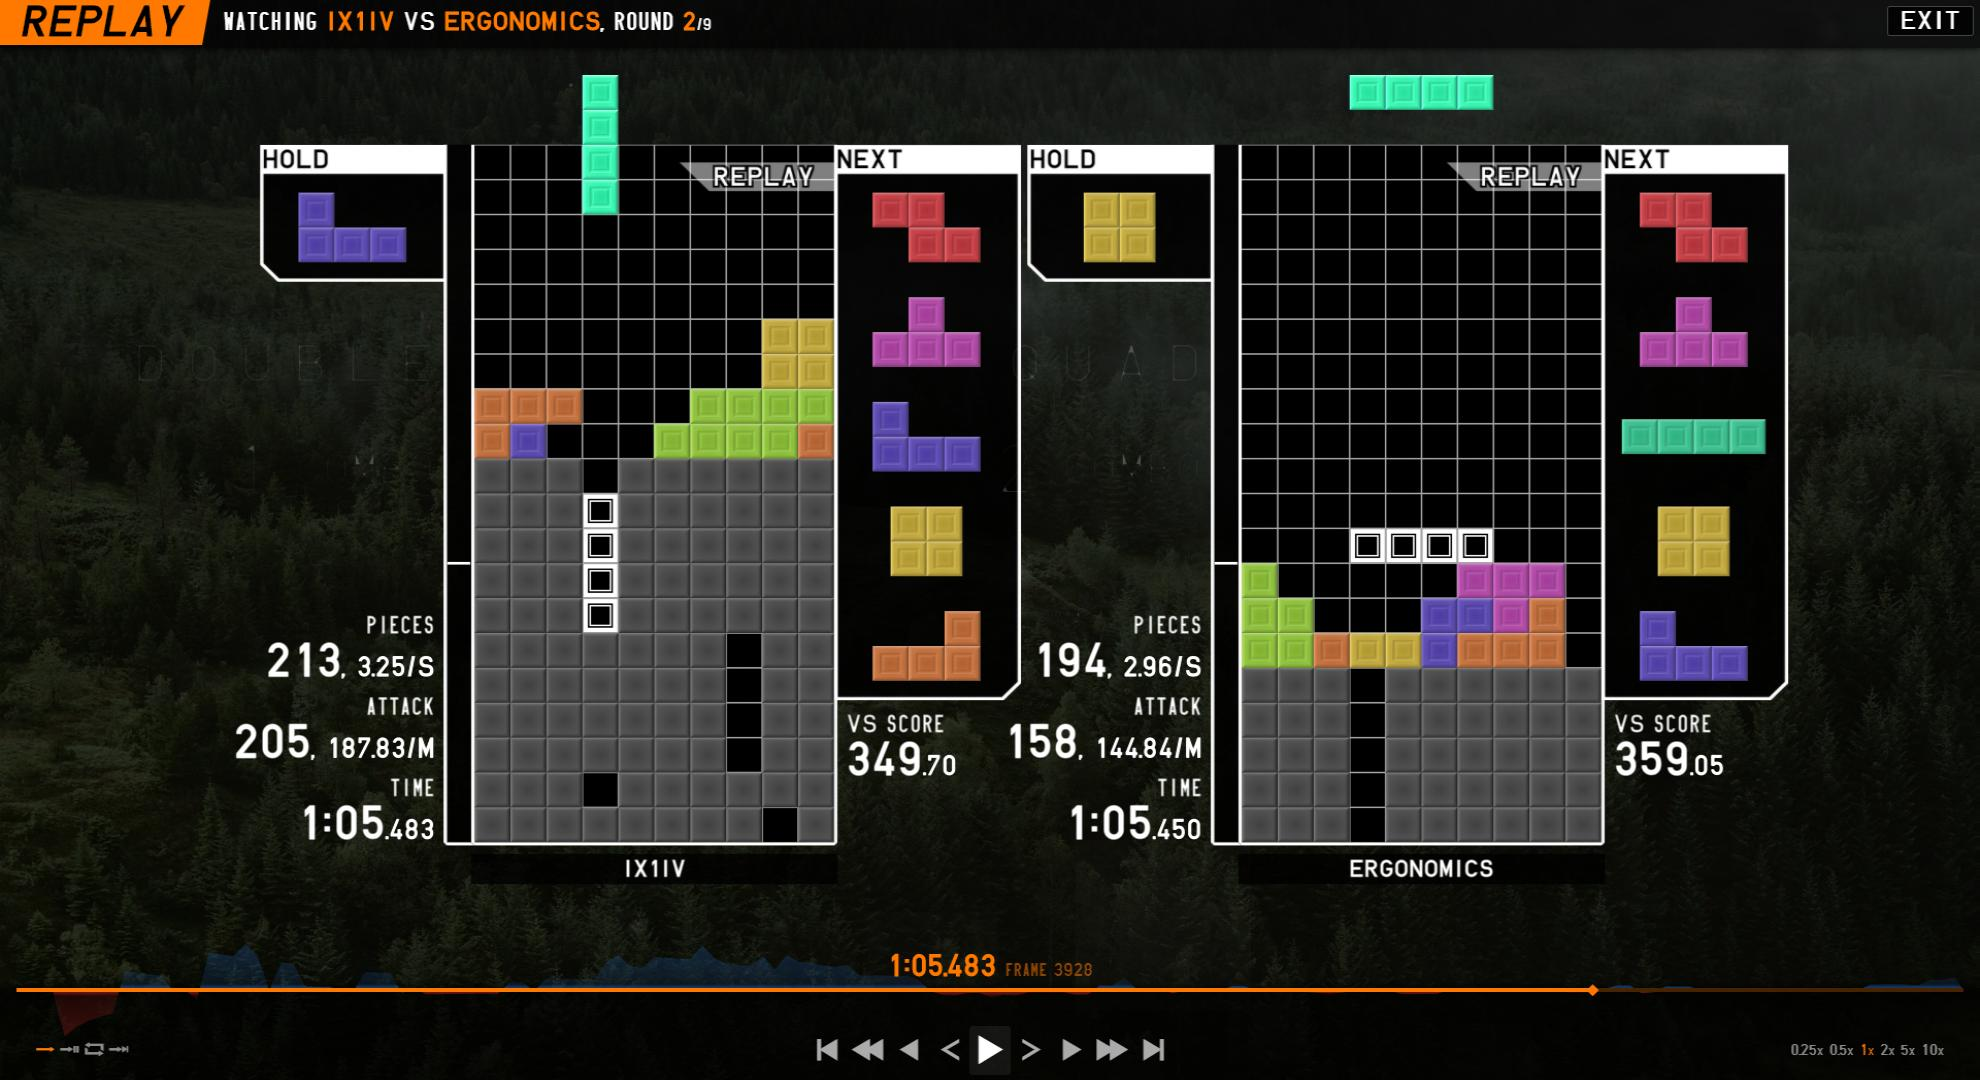tspin: (541, 390, 661, 503)
